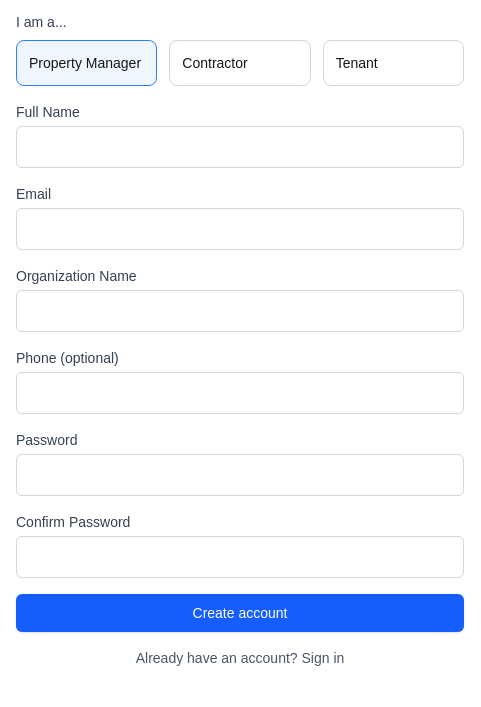
Test: RegisterForm › validates email format
Type "invalid-email" into the field labelled "Email" at (240, 229), box [16, 208, 464, 250]
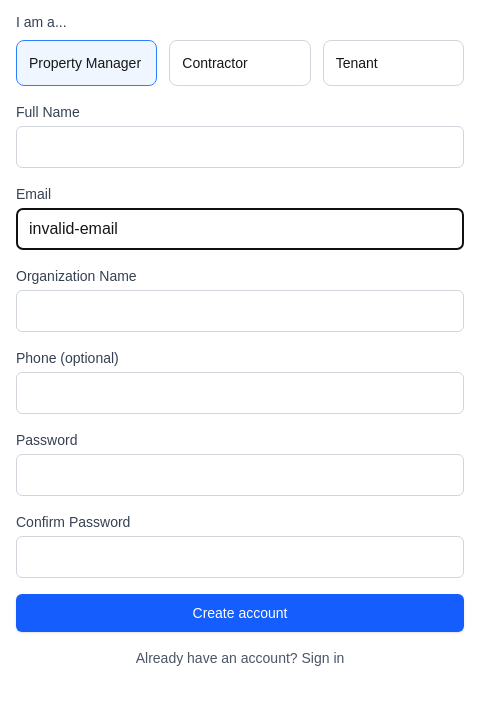
Press Tab
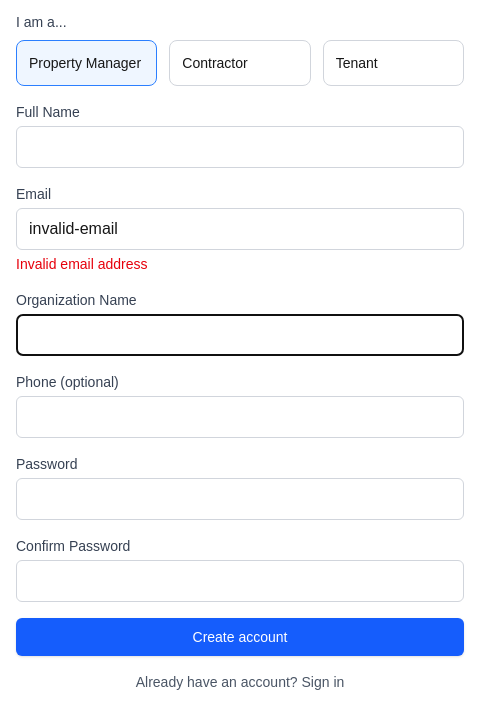
Expected: the text "Invalid email address" is shown, [16, 256, 148, 272]
